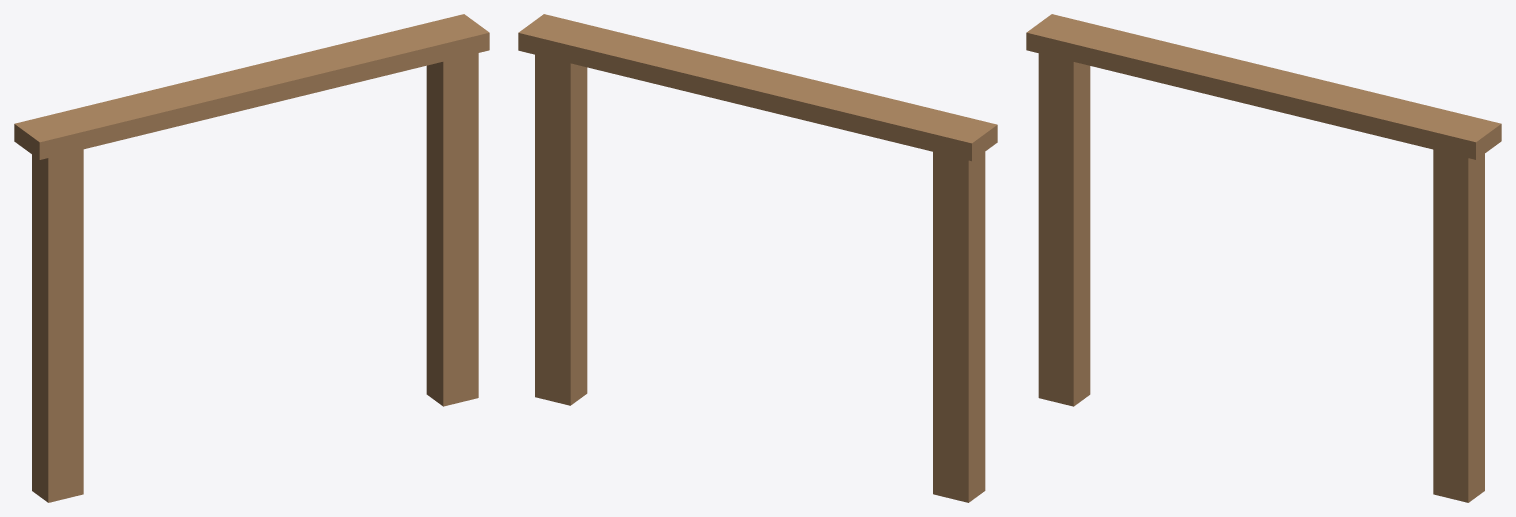
The model's file is SM_entranceframe_wooden.fbx.
The picture shows the model from 3 angles, left to right: view 1: azimuth 30°, elevation 25°; view 2: azimuth 150°, elevation 25°; view 3: azimuth 330°, elevation 25°; orthographic projection.
Parts seen in each view (by area): view 1: Box064; view 2: Box064; view 3: Box064.
Boxes of the visible parts, bbox=[...] form: Box064: bbox=[14, 14, 489, 502]; Box064: bbox=[518, 14, 997, 502]; Box064: bbox=[1026, 14, 1501, 502].
Size of the model in its own units: 153 by 15.02 by 119.
